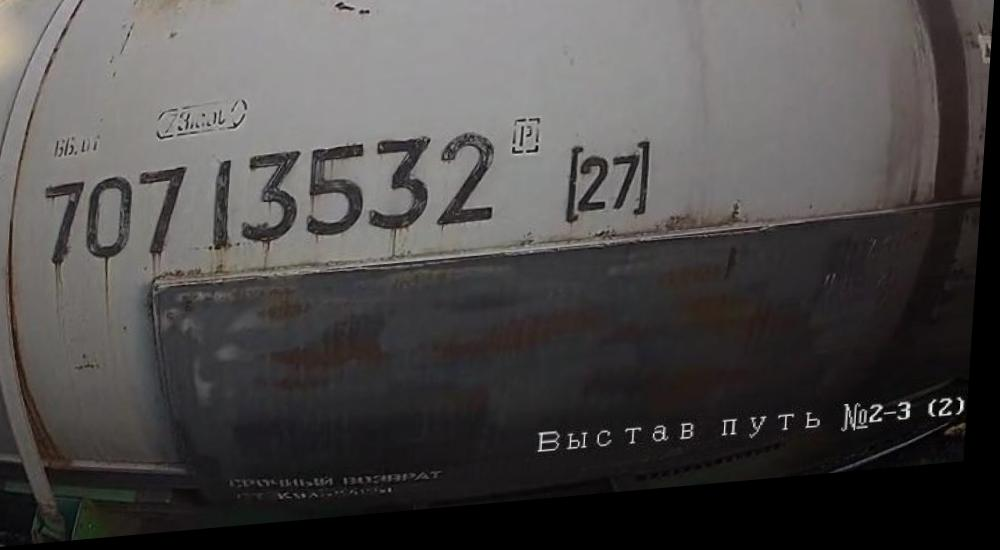Wagon-number: (39, 135, 508, 277)
